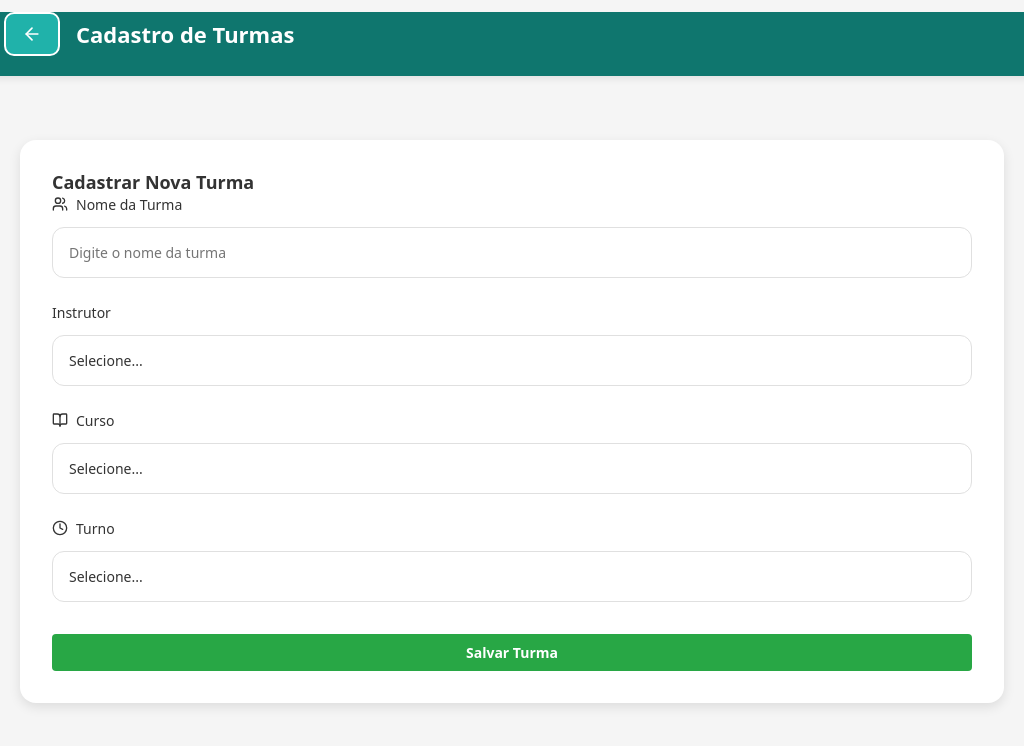
Test case: CadastroDeTurma › valida campos obrigatórios antes de salvar
Click the button "Salvar Turma". click: (512, 652)
box: x1=52 y1=634 x2=972 y2=671
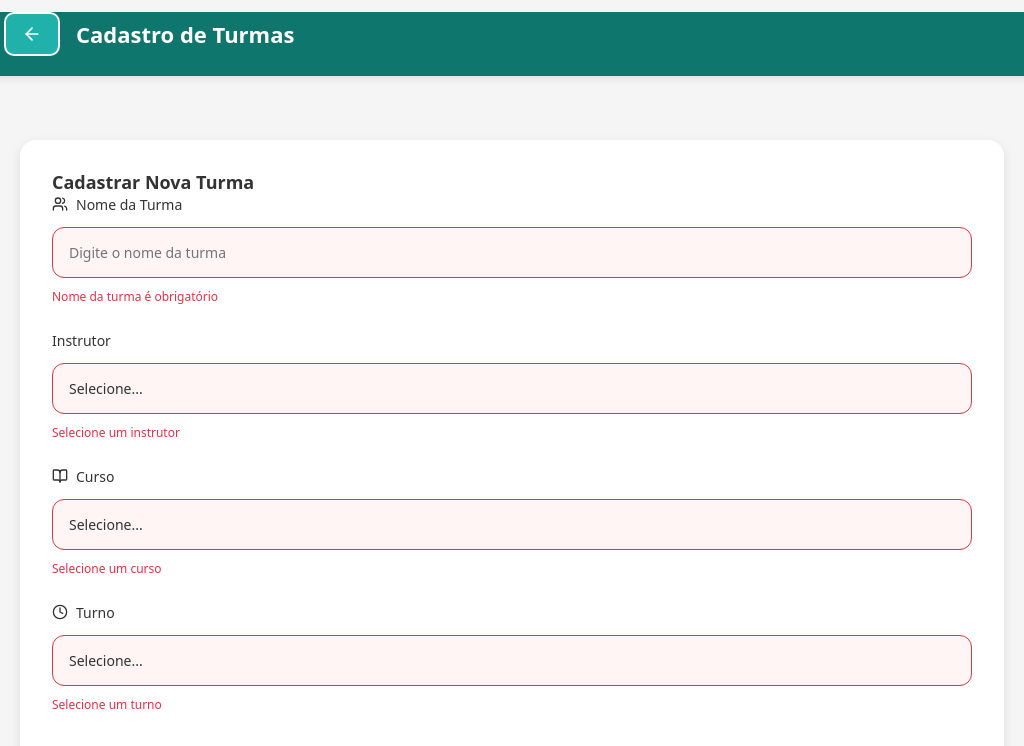
Now the text "Nome da turma é obrigatório" is shown, box x1=52 y1=288 x2=218 y2=305
Now the text "Selecione um instrutor" is shown, box x1=52 y1=424 x2=180 y2=441
Now the text "Selecione um curso" is shown, box x1=52 y1=560 x2=162 y2=577
